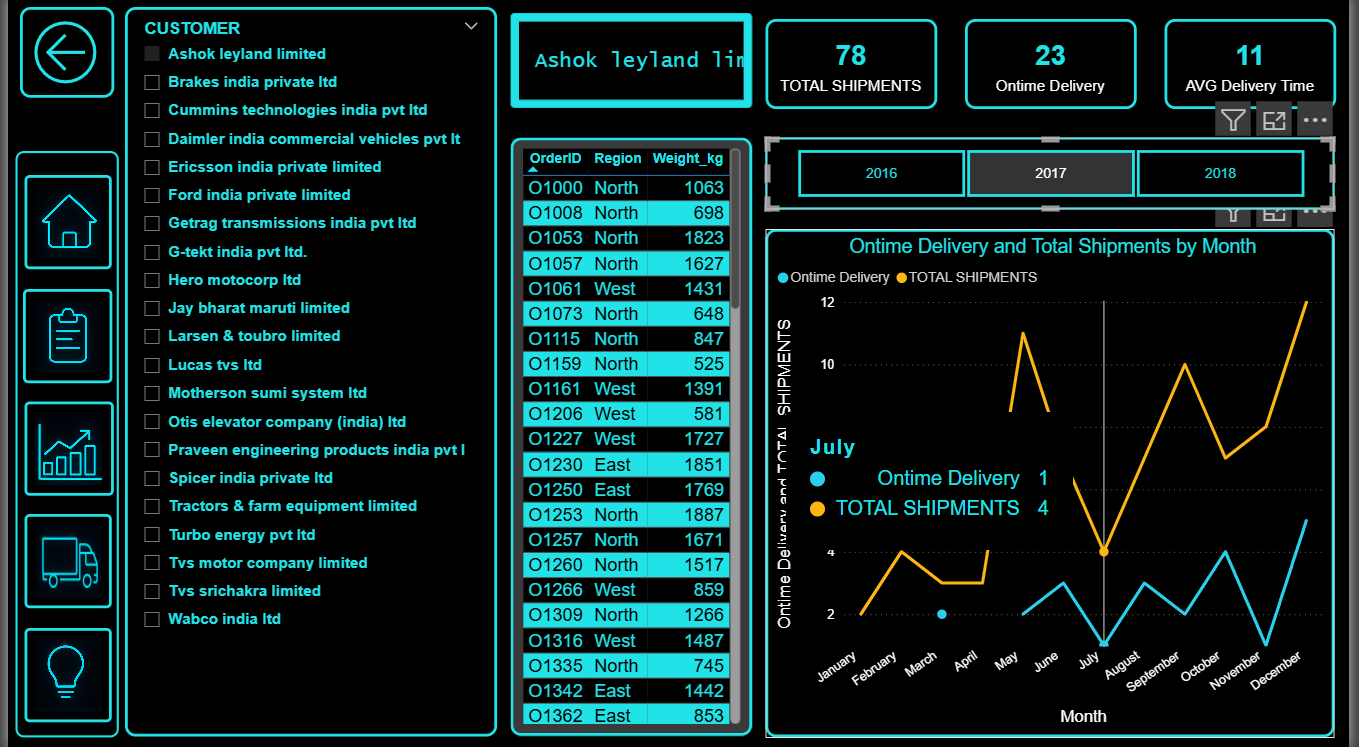

The dashboard page shown, as its layout file describes it:
{"tool":"powerbi","page":{"name":"Customer","canvas":[1280,720],"ordinal":3},"visuals":[{"type":"card","fields":{"Values":["MEASURE TABLE (2).TOTAL SHIPMENTS"]},"box":[723.7,22.3,163.8,85.9],"z":0},{"type":"card","fields":{"Values":["MEASURE TABLE (2).Ontime Delivery"]},"box":[913.8,22.3,163.8,85.9],"z":1000},{"type":"card","fields":{"Values":["MEASURE TABLE (2).AVG Delivery Time"]},"box":[1103.9,22.3,163.8,85.9],"z":2000},{"type":"slicer","fields":{"Values":["Orders.Customer"]},"box":[111.7,11.7,355,696.7],"z":3000},{"type":"slicer","fields":{"Values":["Date Table.Date.Variation.Date Hierarchy.Year"]},"box":[723.3,136.7,543.3,68.3],"z":4000},{"type":"tableEx","fields":{"Values":["Orders.OrderID","/Warehouses.Region","Sum(Orders.Weight_kg)"]},"box":[480.4,136.8,230.6,571],"z":5000},{"type":"lineChart","title":"Ontime Delivery and Total Shipments by Month","fields":{"Y":["MEASURE TABLE (2).Ontime Delivery","MEASURE TABLE (2).TOTAL SHIPMENTS"],"Category":["Date Table.Date.Variation.Date Hierarchy.Month"]},"box":[723.3,223.3,543.3,485],"z":6000},{"type":"actionButton","box":[11.7,11.7,90,86.7],"z":7000},{"type":"ScrollingTextVisual1448795304508","fields":{"Category":["Orders.Customer"],"Measure Absolute":["CountNonNull(Orders.OrderID)"]},"box":[480.4,17.5,230.6,90.7],"z":8000},{"type":"shape","box":[6.7,148.3,98.3,560],"z":9000,"group":"g1"},{"type":"image","box":[15,387.7,85,90.3],"z":10000,"group":"g1"},{"type":"image","box":[13.4,279.7,85,90.3],"z":12000,"group":"g1"},{"type":"image","box":[15,171.8,83.3,90.3],"z":13000,"group":"g1"},{"type":"image","box":[15,603.5,83.3,90.3],"z":15000,"group":"g1"},{"type":"image","box":[15,495.6,83.3,90.3],"z":16000,"group":"g1"},{"type":"group","id":"g1","title":"Group 1","box":[6.7,148.3,98.3,560],"z":16001}]}

Visuals, with their boxes in screenshot pixels (x1, y1, x2, y2), scaled from the page's 1280x720 canvas onto the 1359x747 screenshot:
card - MEASURE TABLE (2).TOTAL SHIPMENTS: 768 23 942 112
card - MEASURE TABLE (2).Ontime Delivery: 970 23 1144 112
card - MEASURE TABLE (2).AVG Delivery Time: 1172 23 1346 112
slicer - Orders.Customer: 119 12 496 735
slicer - Date Table.Date.Variation.Date Hierarchy.Year: 768 142 1345 213
tableEx - Orders.OrderID x /Warehouses.Region: 510 142 755 734
"Ontime Delivery and Total Shipments by Month" lineChart: 768 232 1345 735
actionButton: 12 12 108 102
ScrollingTextVisual1448795304508 - Orders.Customer x CountNonNull(Orders.OrderID): 510 18 755 112
shape: 7 154 111 735
image: 16 402 106 496
image: 14 290 104 384
image: 16 178 104 272
image: 16 626 104 720
image: 16 514 104 608
"Group 1" group: 7 154 111 735
